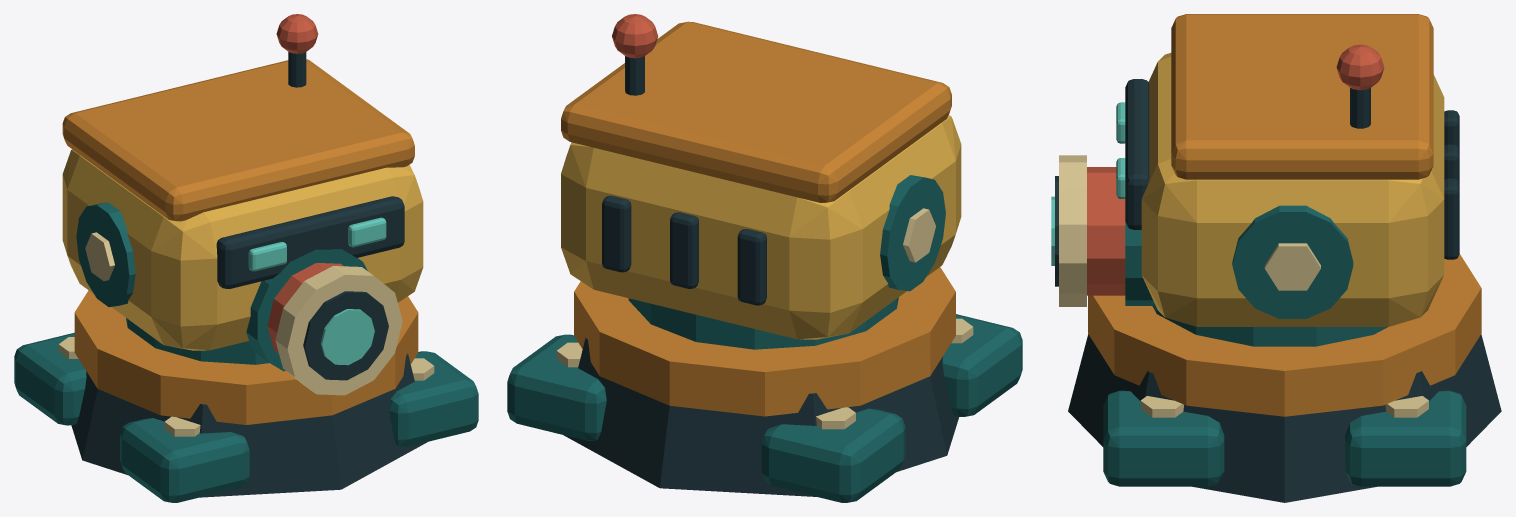
File: PL_PuffSentry.glb
3 views of the same model, side by side, from view 1: azimuth 30°, elevation 25°; view 2: azimuth 150°, elevation 25°; view 3: azimuth 270°, elevation 25° (orthographic). The views are drawn at different scales.
Parts seen in each view (by area): view 1: YawPivot_Surface, ROOT_PuffSentry_Surface; view 2: YawPivot_Surface, ROOT_PuffSentry_Surface; view 3: YawPivot_Surface, ROOT_PuffSentry_Surface.
Boxes of the visible parts, left/top/right/bottom form: YawPivot_Surface: left=62, top=14, right=423, bottom=395; ROOT_PuffSentry_Surface: left=14, top=290, right=478, bottom=502; YawPivot_Surface: left=561, top=14, right=961, bottom=349; ROOT_PuffSentry_Surface: left=507, top=267, right=1022, bottom=502; YawPivot_Surface: left=1051, top=14, right=1459, bottom=346; ROOT_PuffSentry_Surface: left=1068, top=254, right=1501, bottom=502.
Bounding box in the file's own units: 0.86 × 0.9 × 0.893.
